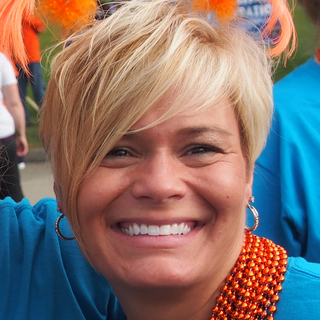eye: (172, 140, 224, 164), (99, 143, 144, 166)
